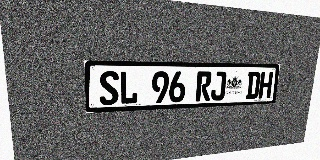6: (169, 71, 186, 103)
9: (152, 71, 169, 103)
D: (245, 72, 261, 99)
H: (258, 72, 273, 99)
J: (210, 71, 227, 101)
L: (119, 71, 138, 105)
R: (195, 71, 212, 101)
S: (99, 71, 119, 105)
